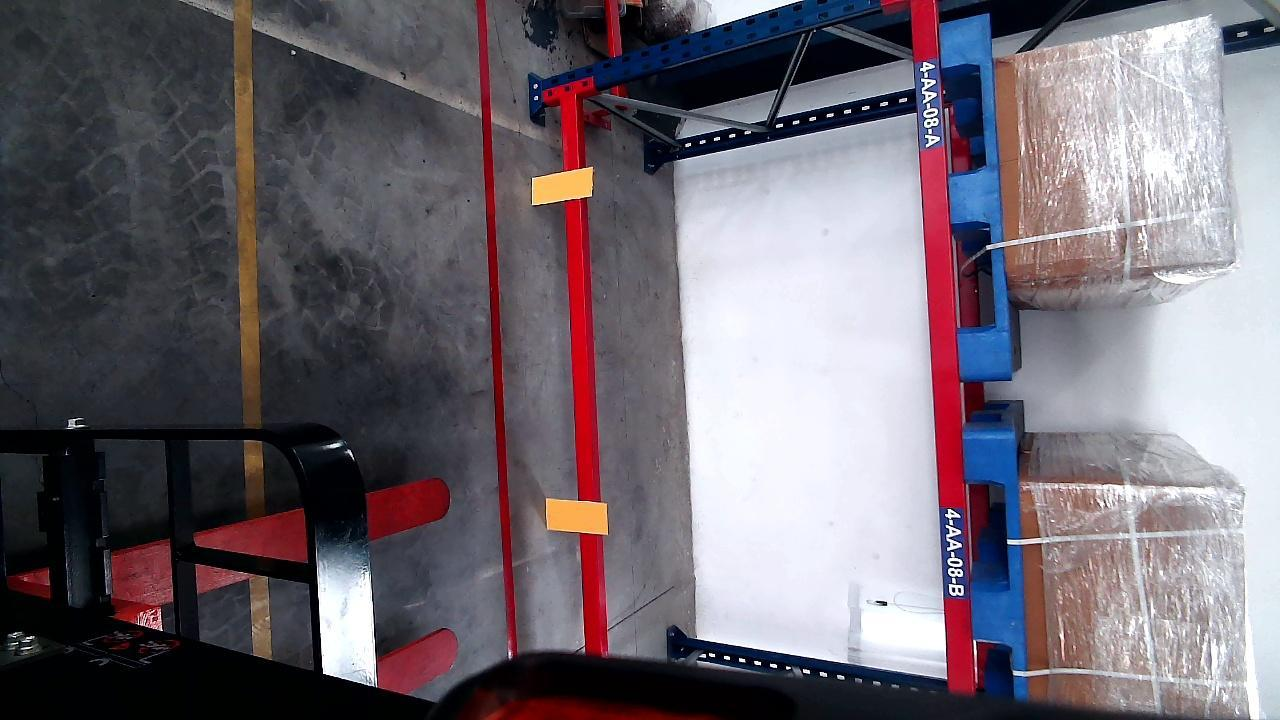red_line: (473, 1, 520, 656)
yellow_line: (235, 0, 261, 426)
